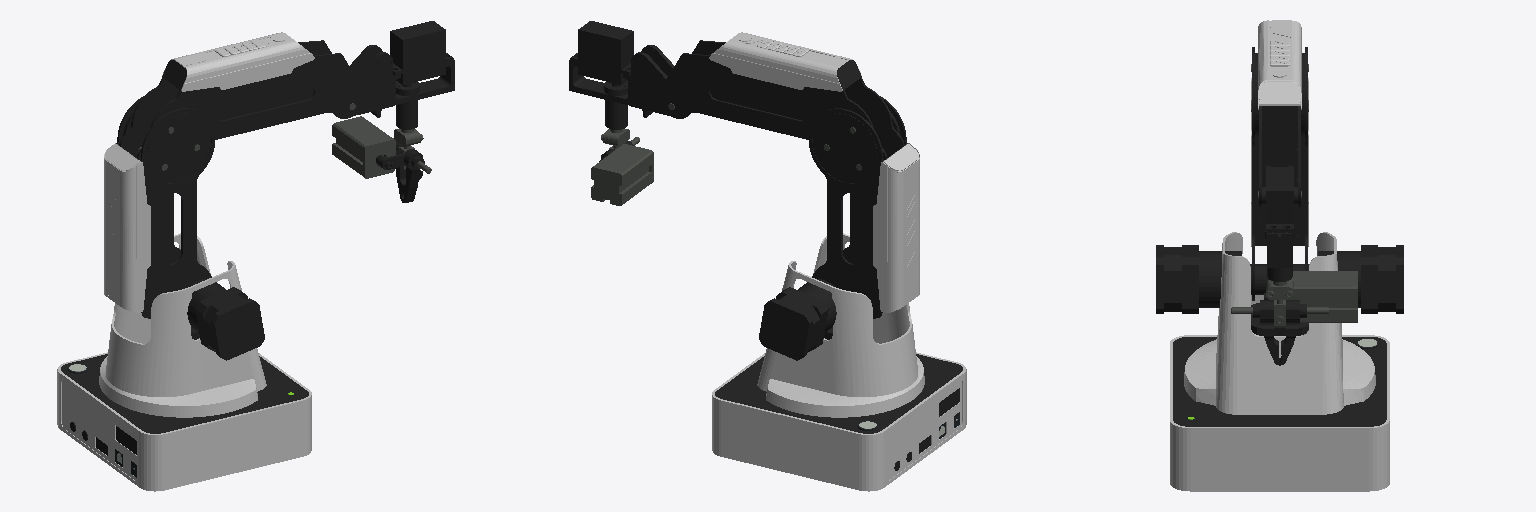
The robot description file, URDF, robot "magician":
<?xml version="1.0" ?>
<!-- =================================================================================== -->
<!-- |    This document was autogenerated by xacro from magician_standalone.urdf.xacro | -->
<!-- |    EDITING THIS FILE BY HAND IS NOT RECOMMENDED                                 | -->
<!-- |    Genetate URDF from XACRO file                                                | -->
<!-- |    ros2 run xacro xacro magician_standalone.urdf.xacro > model2_test.urdf       | -->
<!-- =================================================================================== -->

<robot name="magician" xmlns:xi="http://www.w3.org/2001/XInclude">
  <link name="magician_root_link"/>
  <link name="magician_base_link">
    <visual>
      <origin rpy="0 0 0" xyz="0 0 0"/>
      <geometry>
        <mesh filename="package://dobot_description/meshes/dae/magicianBase.dae"/>
      </geometry>
    </visual>
    <collision>
      <origin rpy="0 0 0" xyz="0 0 0"/>
      <geometry>
        <mesh filename="package://dobot_description/meshes/dae/magicianBase.dae"/>
      </geometry>
    </collision>
  </link>
  <joint name="magician_joint_base" type="fixed">
    <parent link="magician_root_link"/>
    <child link="magician_base_link"/>
    <axis xyz="0 0 0"/>
    <limit effort="2000" lower="0" upper="0" velocity="1"/>
    <origin rpy="0 0 0" xyz="0 0 0.131305"/>
    <dynamics damping="0.0" friction="0.0"/>
  </joint>
  <link name="magician_link_1">
    <visual>
      <origin rpy="0 0 0" xyz="0 0 0"/>
      <geometry>
        <mesh filename="package://dobot_description/meshes/dae/magicianLink1.dae"/>
      </geometry>
    </visual>
    <collision>
      <origin rpy="0 0 0" xyz="0 0 0"/>
      <geometry>
        <mesh filename="package://dobot_description/meshes/dae/magicianLink1.dae"/>
      </geometry>
    </collision>
  </link>
  <joint name="magician_joint_1" type="revolute">
    <parent link="magician_base_link"/>
    <child link="magician_link_1"/>
    <axis xyz="0 0 1"/>
    <limit effort="2000" lower="-2.1816615649929116" upper="2.1816615649929116" velocity="1"/>
    <origin rpy="0 0 0" xyz="0 0 0"/>
    <dynamics damping="0.0" friction="0.0"/>
  </joint>
  <link name="magician_link_2">
    <visual>
      <origin rpy="0 -0.3490658503988659 0" xyz="0 0 0"/>
      <geometry>
        <mesh filename="package://dobot_description/meshes/dae/magicianLink2.dae"/>
      </geometry>
    </visual>
    <collision>
      <origin rpy="0 -0.3490658503988659 0" xyz="0 0 0"/>
      <geometry>
        <mesh filename="package://dobot_description/meshes/dae/magicianLink2.dae"/>
      </geometry>
    </collision>
  </link>
  <joint name="magician_joint_2" type="revolute">
    <parent link="magician_link_1"/>
    <child link="magician_link_2"/>
    <axis xyz="0 1 0"/>
    <limit effort="2000" lower="-0.08726646259971647" upper="1.5707963267948966" velocity="1"/>
    <origin rpy="0 0.0 0" xyz="0 0 0.0"/>
    <dynamics damping="0.0" friction="0.0"/>
  </joint>
  <link name="magician_link_3">
    <visual>
      <origin rpy="0 -0.47123889803846897 0" xyz="0.01645236135969491 0 -0.13399373047157848"/>
      <geometry>
        <mesh filename="package://dobot_description/meshes/dae/magicianLink3.dae"/>
      </geometry>
    </visual>
    <collision>
      <origin rpy="0 -0.47123889803846897 0" xyz="0.01645236135969491 0 -0.13399373047157848"/>
      <geometry>
        <mesh filename="package://dobot_description/meshes/dae/magicianLink3.dae"/>
      </geometry>
    </collision>
  </link>
  <joint name="magician_joint_3" type="revolute">
    <parent link="magician_link_2"/>
    <child link="magician_link_3"/>
    <axis xyz="0 1 0"/>
    <limit effort="2000" lower="-0.2617993877991494" upper="1.2217304763960306" velocity="1"/>
    <origin rpy="0 0 0" xyz="0 0.0 0.135"/>
    <dynamics damping="0.0" friction="0.0"/>
  </joint>
  <link name="magician_link_virtual">
    <visual>
      <origin rpy="0 0 0" xyz="-0.17715067840465534 0 -0.058595107267811"/>
      <geometry>
        <box size="0 0 0"/>
      </geometry>
    </visual>
    <collision>
      <origin rpy="0 0 0" xyz="-0.17715067840465534 0 -0.058595107267811"/>
      <geometry>
        <box size="0 0 0"/>
      </geometry>
    </collision>
  </link>
  <joint name="magician_joint_mimic_1" type="revolute">
    <parent link="magician_link_3"/>
    <child link="magician_link_virtual"/>
    <axis xyz="0 1 0"/>
    <limit effort="2000" lower="0.0" upper="6.283185307179586" velocity="1"/>
    <origin rpy="0 0 0" xyz="0.147 0 0"/>
    <dynamics damping="0.0" friction="0.0"/>
    <mimic joint="magician_joint_2" multiplier="-1" offset="0"/>
  </joint>
  <link name="magician_link_4">
    <visual>
      <origin rpy="0 0 0" xyz="-0.17715067840465534 0 -0.058595107267811"/>
      <geometry>
        <mesh filename="package://dobot_description/meshes/dae/magicianLink4.dae"/>
      </geometry>
    </visual>
    <collision>
      <origin rpy="0 0 0" xyz="-0.17715067840465534 0 -0.058595107267811"/>
      <geometry>
        <mesh filename="package://dobot_description/meshes/dae/magicianLink4.dae"/>
      </geometry>
    </collision>
  </link>
  <joint name="magician_joint_mimic_2" type="revolute">
    <parent link="magician_link_virtual"/>
    <child link="magician_link_4"/>
    <axis xyz="0 1 0"/>
    <limit effort="2000" lower="0.0" upper="6.283185307179586" velocity="1"/>
    <origin rpy="0 0 0" xyz="0 0 0"/>
    <dynamics damping="0.0" friction="0.0"/>
    <mimic joint="magician_joint_3" multiplier="-1" offset="0"/>
  </joint>
  <link name="magician_link_gripper_core">
    <visual>
      <origin rpy="0 0 0" xyz="-8.06784046553505e-05 0 -0.027843407267811"/>
      <geometry>
        <mesh filename="package://dobot_description/meshes/dae/gripper_core.dae"/>
      </geometry>
    </visual>
    <collision>
      <origin rpy="0 0 0" xyz="-8.06784046553505e-05 0 -0.027843407267811"/>
      <geometry>
        <mesh filename="package://dobot_description/meshes/dae/gripper_core.dae"/>
      </geometry>
    </collision>
  </link>
  <joint name="magician_joint_4" type="revolute">
    <parent link="magician_link_4"/>
    <child link="magician_link_gripper_core"/>
    <axis xyz="0 0 1"/>
    <limit effort="2000" lower="-2.6179938779914944" upper="2.6179938779914944" velocity="1"/>
    <origin rpy="0 0 0" xyz="0.06 0 0"/>
    <dynamics damping="0.0" friction="0.0"/>
  </joint>
  <link name="magician_link_gripper_jaw_left">
    <visual>
      <origin rpy="0 0 0" xyz="-8.06784046553505e-05 -0.0009 -0.027843407267811"/>
      <geometry>
        <mesh filename="package://dobot_description/meshes/dae/jaw_left.dae"/>
      </geometry>
    </visual>
    <collision>
      <origin rpy="0 0 0" xyz="-8.06784046553505e-05 -0.0009 -0.027843407267811"/>
      <geometry>
        <mesh filename="package://dobot_description/meshes/dae/jaw_left.dae"/>
      </geometry>
    </collision>
  </link>
  <joint name="magician_joint_prismatic_l" type="prismatic">
    <parent link="magician_link_gripper_core"/>
    <child link="magician_link_gripper_jaw_left"/>
    <axis xyz="0 1 0 "/>
    <limit effort="2000" lower="0" upper="0.0135" velocity="1"/>
    <origin rpy="0 0 0" xyz="0 0 0"/>
    <dynamics damping="0.0" friction="0.0"/>
  </joint>
  <link name="magician_link_gripper_jaw_right">
    <visual>
      <origin rpy="0 0 0" xyz="-8.06784046553505e-05 0.0009 -0.027843407267811"/>
      <geometry>
        <mesh filename="package://dobot_description/meshes/dae/jaw_right.dae"/>
      </geometry>
    </visual>
    <collision>
      <origin rpy="0 0 0" xyz="-8.06784046553505e-05 0.0009 -0.027843407267811"/>
      <geometry>
        <mesh filename="package://dobot_description/meshes/dae/jaw_right.dae"/>
      </geometry>
    </collision>
  </link>
  <joint name="magician_joint_prismatic_r" type="prismatic">
    <parent link="magician_link_gripper_core"/>
    <child link="magician_link_gripper_jaw_right"/>
    <axis xyz="0 1 0"/>
    <limit effort="2000" lower="0" upper="-0.0135" velocity="1"/>
    <origin rpy="0 0 0" xyz="0 0 0"/>
    <dynamics damping="0.0" friction="0.0"/>
    <mimic joint="magician_joint_prismatic_l" multiplier="-1" offset="0"/>
  </joint>
</robot>

--- What the picture shows (computed from the rendered views, not written in the file) ---
The picture shows the robot from 3 angles, left to right: view 1: azimuth 30°, elevation 25°; view 2: azimuth 150°, elevation 25°; view 3: azimuth 270°, elevation 25°; orthographic projection.
Robot: magician — 10 links, 9 joints (6 revolute, 2 prismatic, 1 fixed); root link magician_root_link; default pose: every joint at zero.
Visible links, largest first — view 1: magician_base_link, magician_link_1, magician_link_2, magician_link_3, magician_link_4, magician_link_gripper_jaw_left, magician_link_gripper_core, magician_link_gripper_jaw_right; view 2: magician_base_link, magician_link_1, magician_link_2, magician_link_3, magician_link_4, magician_link_gripper_jaw_left, magician_link_gripper_core; view 3: magician_link_1, magician_base_link, magician_link_2, magician_link_3, magician_link_gripper_jaw_left, magician_link_4, magician_link_gripper_core, magician_link_gripper_jaw_right.
Link boxes in pixels (left/top/right/bottom): magician_base_link: left=57, top=352, right=311, bottom=491; magician_link_1: left=99, top=233, right=266, bottom=417; magician_link_2: left=104, top=96, right=214, bottom=318; magician_link_3: left=119, top=32, right=364, bottom=159; magician_link_4: left=350, top=21, right=454, bottom=117; magician_link_gripper_jaw_left: left=332, top=116, right=405, bottom=202; magician_link_gripper_core: left=394, top=100, right=431, bottom=173; magician_link_gripper_jaw_right: left=376, top=149, right=424, bottom=202; magician_base_link: left=712, top=352, right=966, bottom=491; magician_link_1: left=757, top=233, right=924, bottom=417; magician_link_2: left=809, top=96, right=919, bottom=318; magician_link_3: left=659, top=32, right=904, bottom=159; magician_link_4: left=569, top=21, right=673, bottom=117; magician_link_gripper_jaw_left: left=591, top=144, right=653, bottom=205; magician_link_gripper_core: left=601, top=100, right=639, bottom=149; magician_link_1: left=1156, top=232, right=1403, bottom=414; magician_base_link: left=1170, top=335, right=1389, bottom=491; magician_link_2: left=1251, top=47, right=1308, bottom=300; magician_link_3: left=1258, top=20, right=1301, bottom=206; magician_link_gripper_jaw_left: left=1280, top=271, right=1357, bottom=365; magician_link_4: left=1265, top=166, right=1294, bottom=267; magician_link_gripper_core: left=1231, top=245, right=1328, bottom=325; magician_link_gripper_jaw_right: left=1253, top=293, right=1279, bottom=365.
Size in the robot's own frame: 0.3249 by 0.178 by 0.3344 metres.
Meshes: 8 distinct files referenced, 8 mesh visuals loaded (8 Collada DAE).